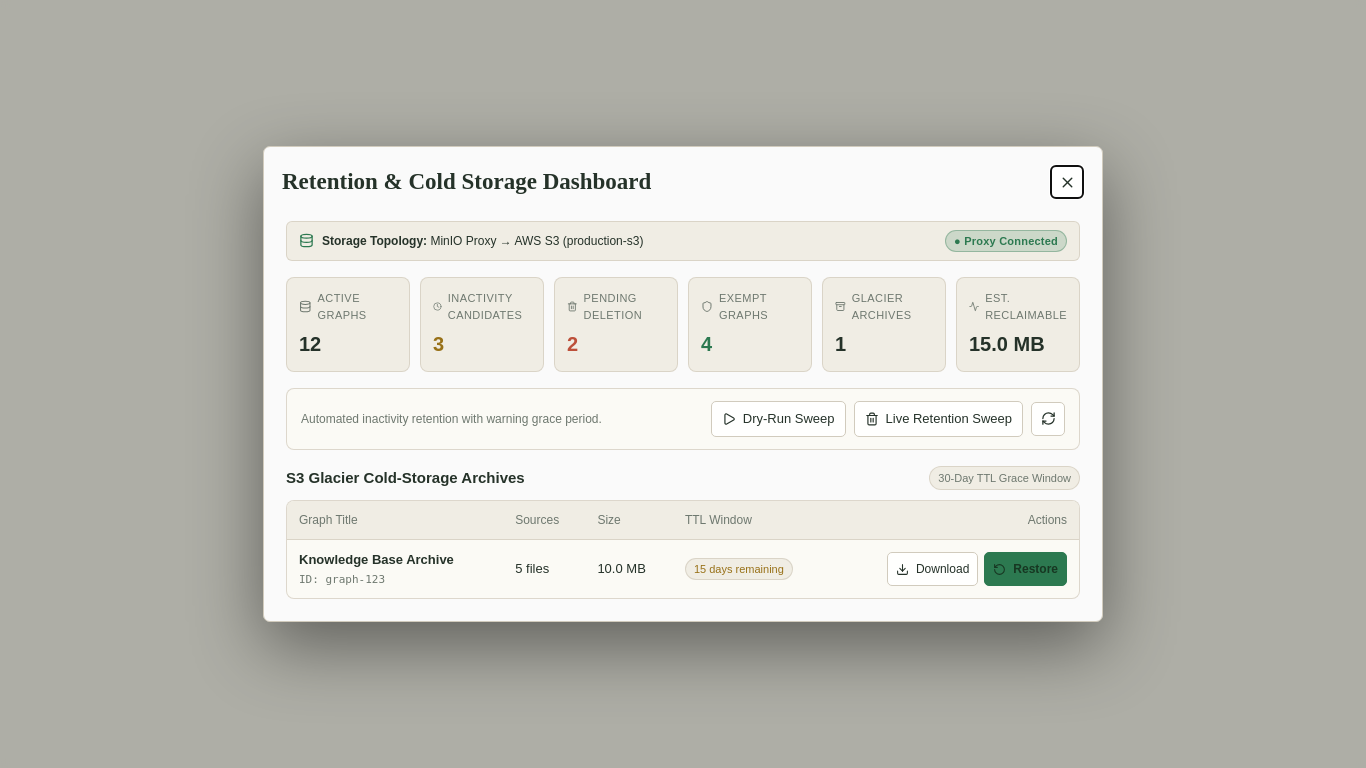
RetentionDashboardDialog › executes live retention sweep and displays summary alert
Expected: the text "Knowledge Base Archive" is shown, left=299, top=552, right=454, bottom=567
Click the button "Live Retention Sweep": (938, 419) left=854, top=401, right=1023, bottom=436
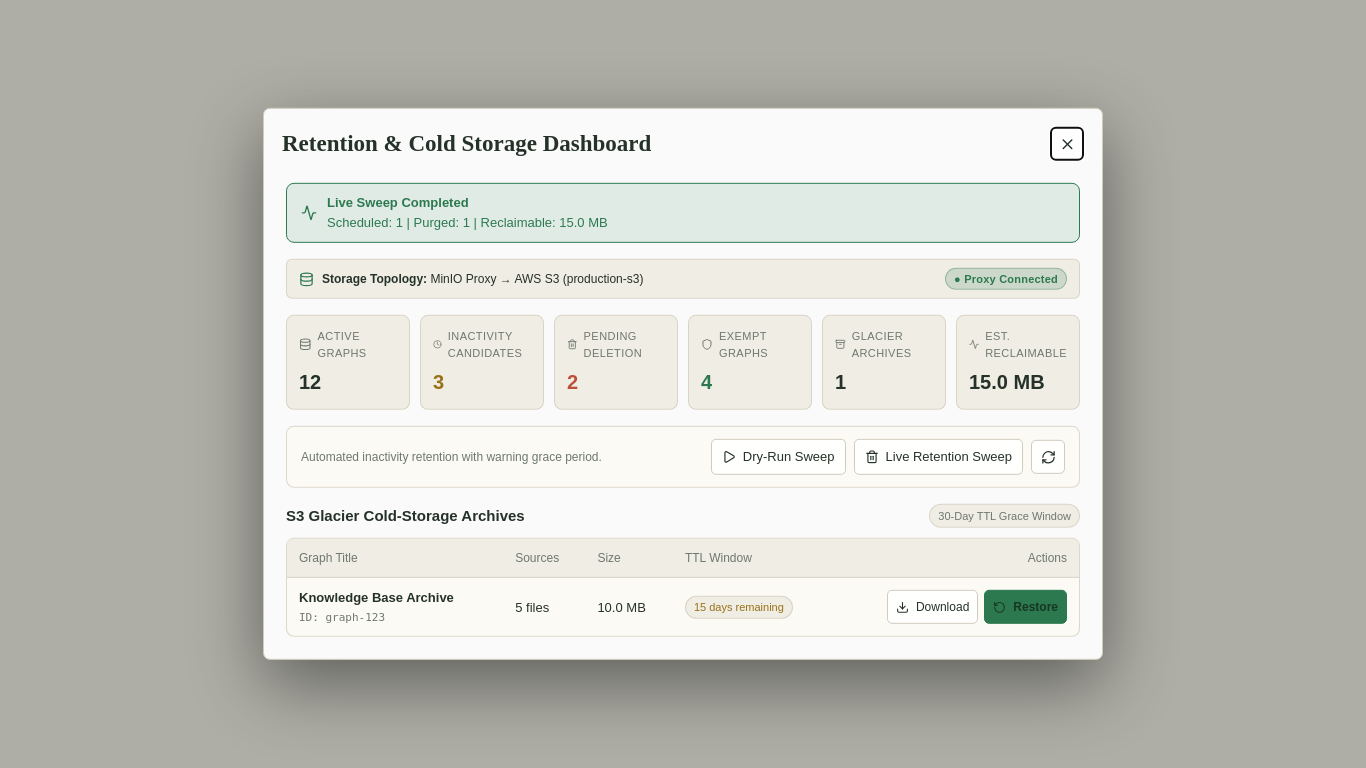
Expected: the text "Live Sweep Completed" is shown, left=327, top=194, right=469, bottom=209
Expected: the text "Scheduled: 1 | Purged: 1 | Reclaimable: 15.0 MB" is shown, left=327, top=214, right=608, bottom=232
